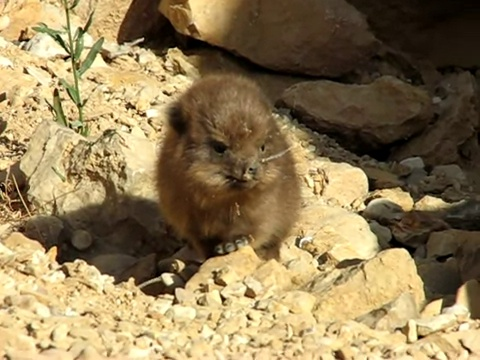Rock Hyrex: (161, 75, 301, 262)
